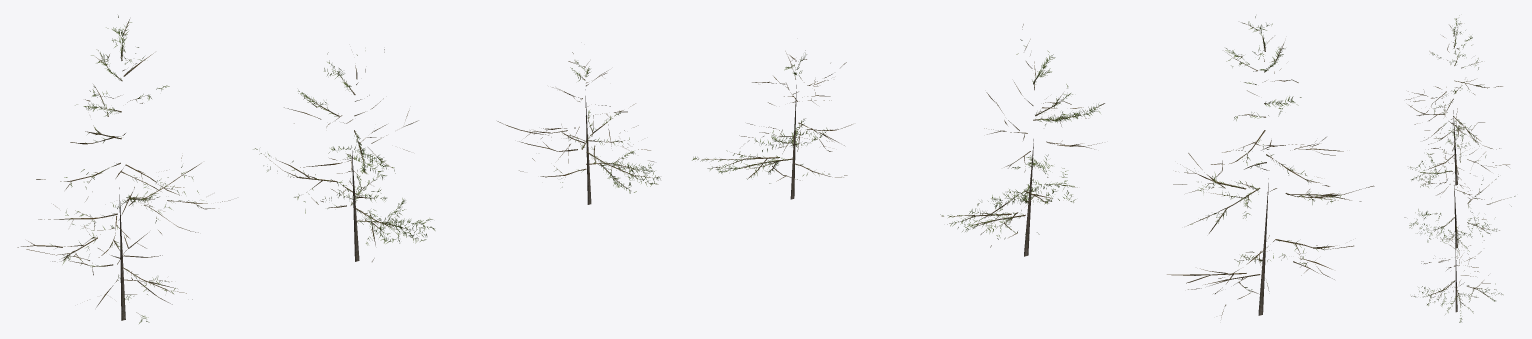
The model's file is fir.glb.
3 views of the same model, side by side, from view 1: azimuth 30°, elevation 25°; view 2: azimuth 150°, elevation 25°; view 3: azimuth 270°, elevation 25° (orthographic). The views are drawn at different scales.
Visible parts, largest first — view 1: fir_sapling_a, fir_sapling_b, fir_sapling_c; view 2: fir_sapling_a, fir_sapling_b, fir_sapling_c; view 3: fir_sapling_a, fir_sapling_b, fir_sapling_c.
Boxes of the visible parts, box(x1,y1,x2,y2) form: fir_sapling_a: box(17, 15, 230, 323); fir_sapling_b: box(253, 49, 435, 261); fir_sapling_c: box(497, 52, 660, 204); fir_sapling_a: box(1167, 16, 1374, 317); fir_sapling_b: box(940, 24, 1104, 256); fir_sapling_c: box(692, 50, 852, 199); fir_sapling_a: box(1406, 15, 1509, 188); fir_sapling_b: box(1404, 121, 1515, 255); fir_sapling_c: box(1411, 219, 1503, 322).
Bounding box in the file's own units: 2.72 × 1.24 × 0.7553.
2 materials, 2 textured.
